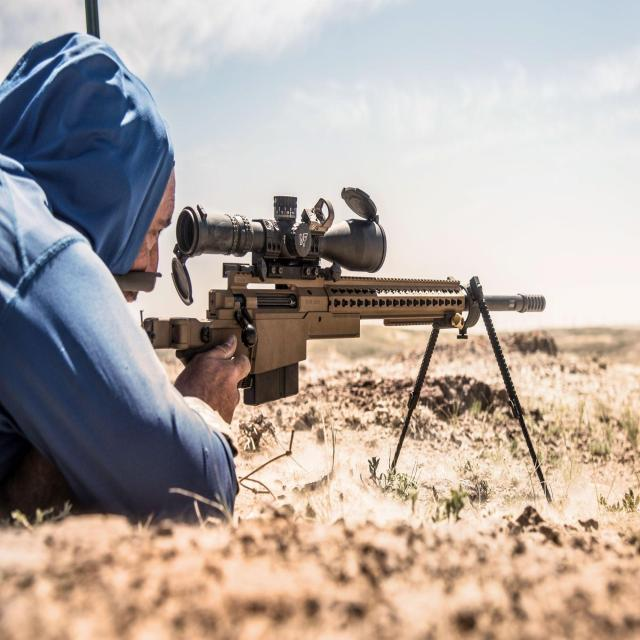weapon: (91, 180, 564, 512)
